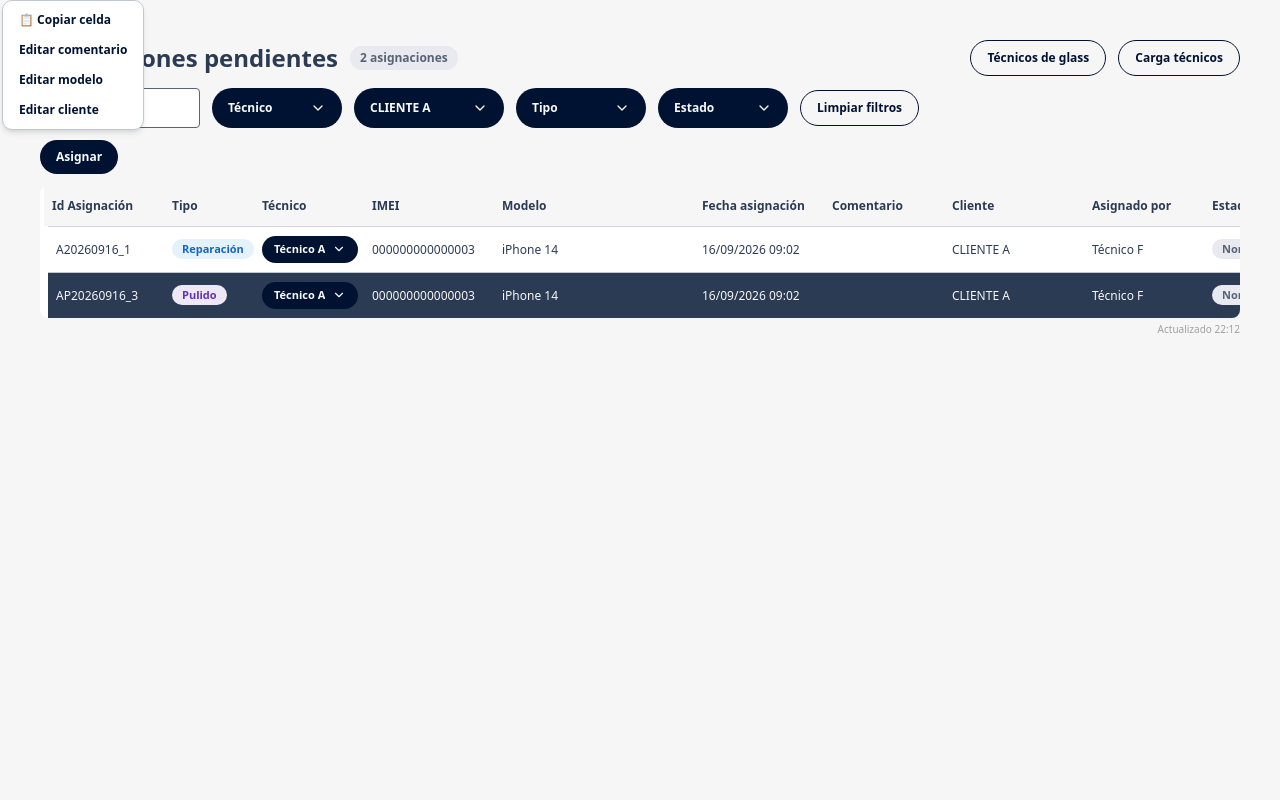
it: los editores del teléfono en la página › si el teléfono cambió mientras tanto, avisa y recarga
Click the menu item "Editar cliente" at (59, 110), box [19,101,99,118]
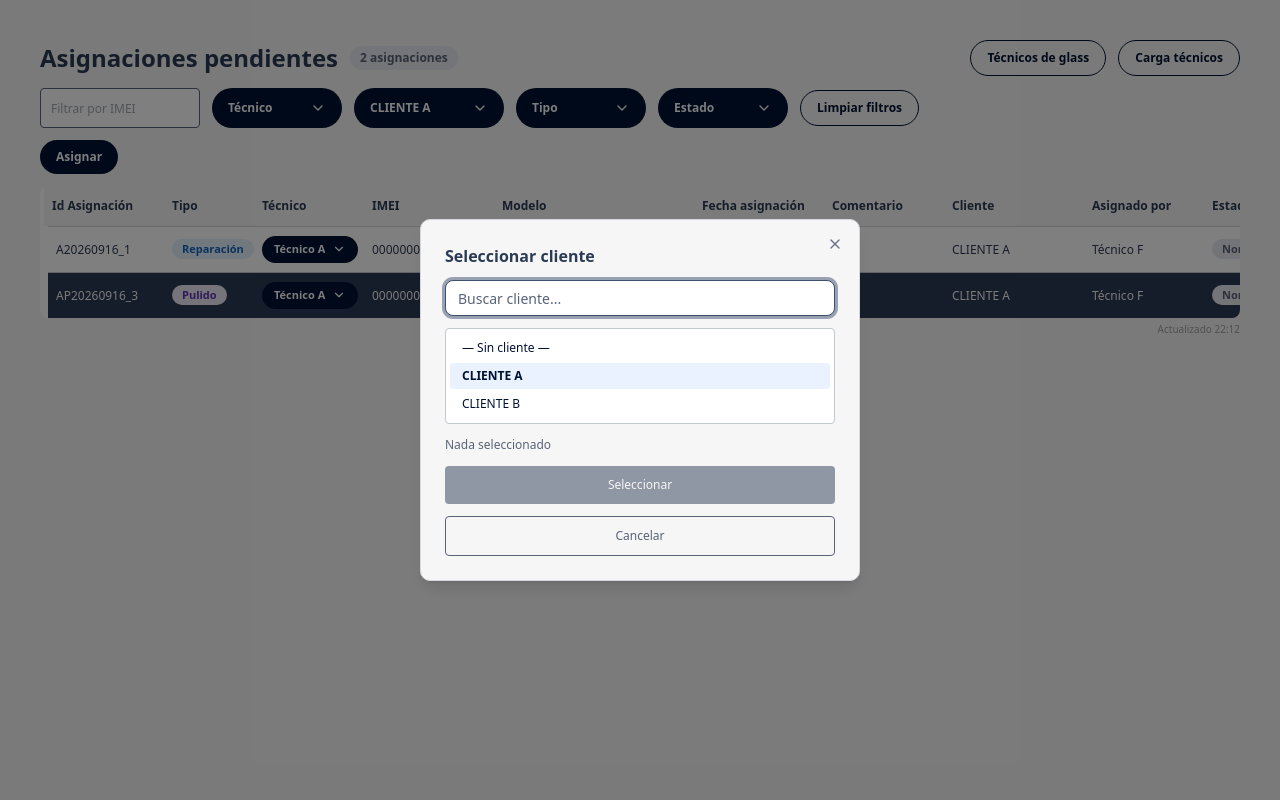
Click the button "CLIENTE B" at (491, 404), box [450,391,830,417]
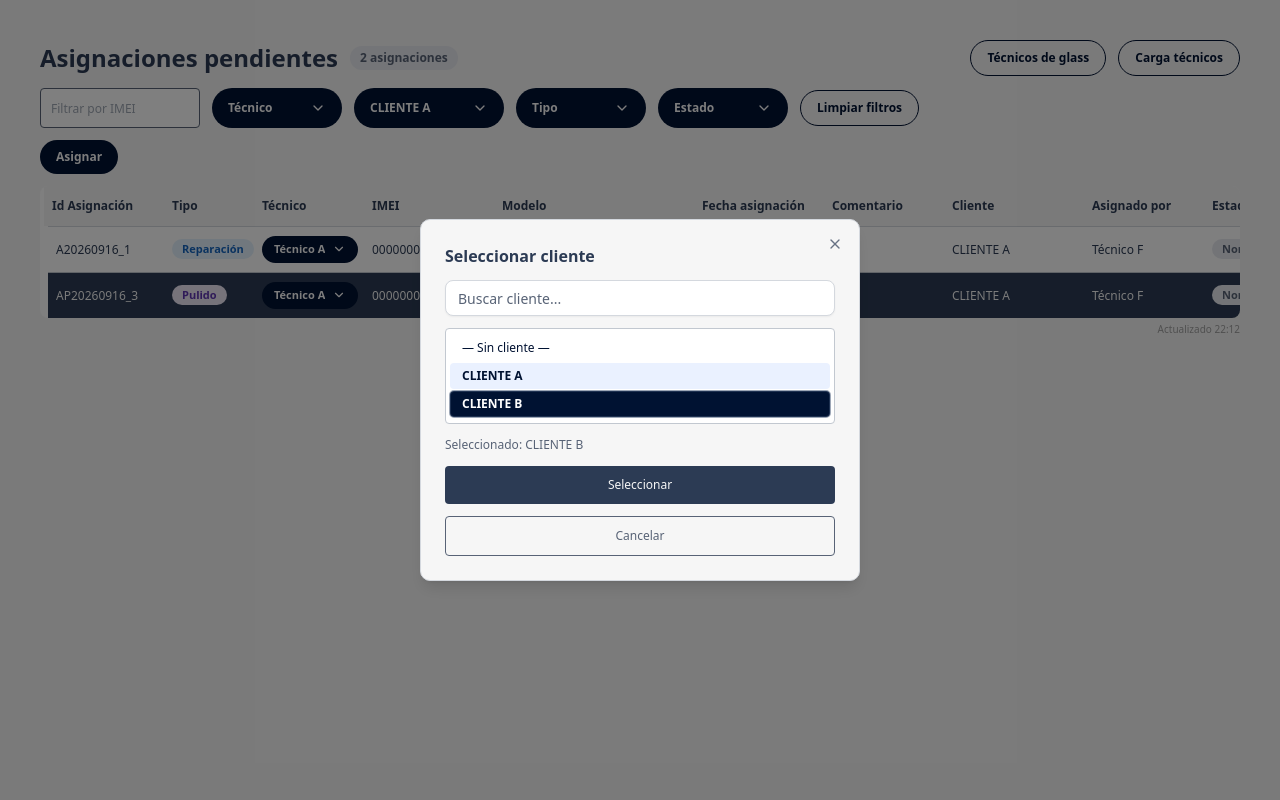
Click the button "Seleccionar" at (640, 485), box [445,466,835,504]
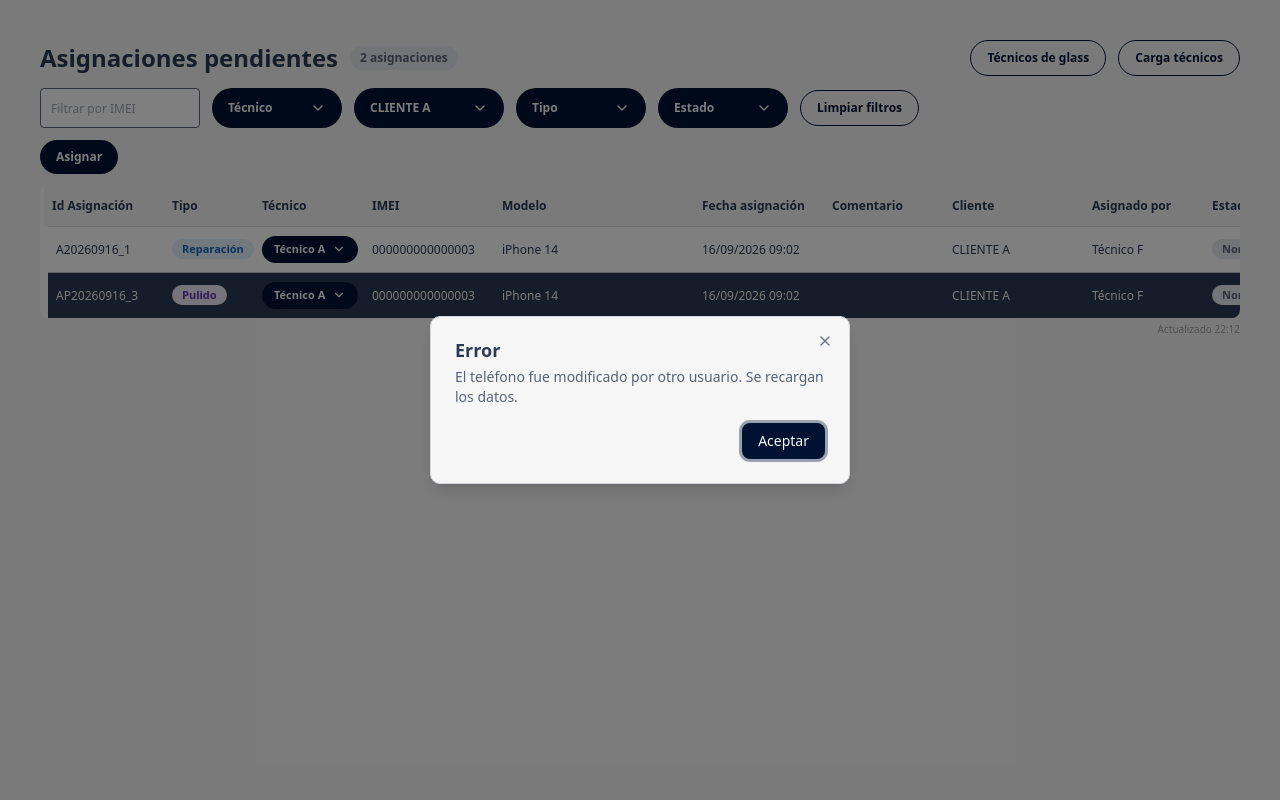
Expected: the dialog "Error" shows "El teléfono fue modificado por otro usuario. Se recargan los datos.", [455,367,824,406]
